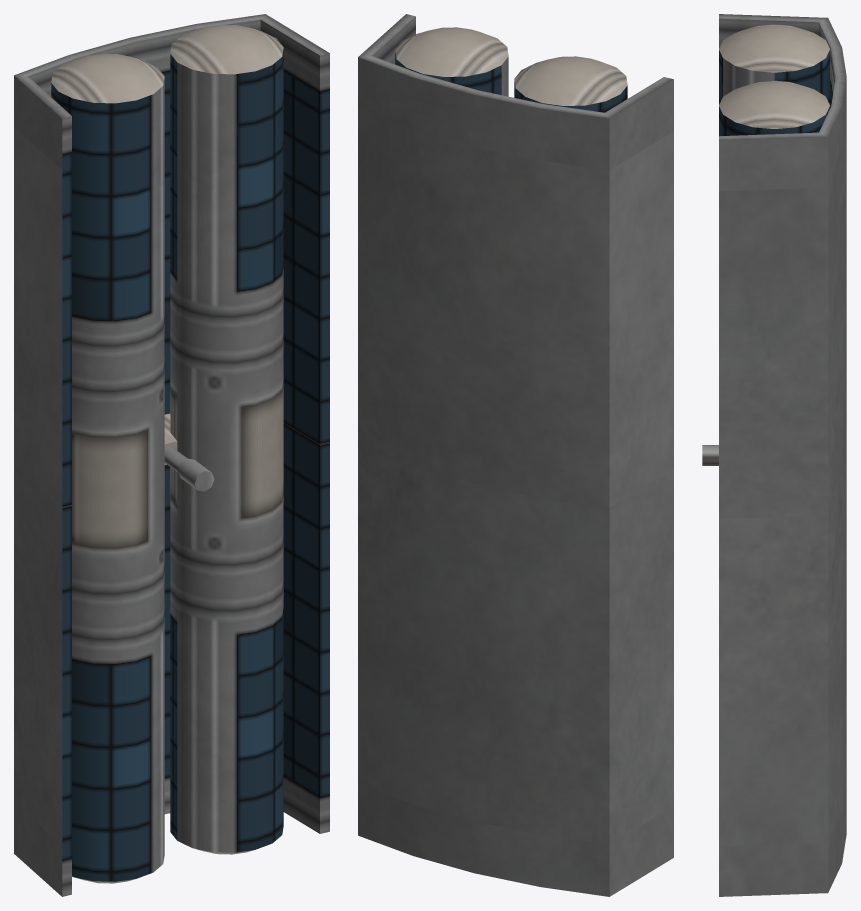
Rendered from double_box.obj.
3 renders of one model, left to right at view 1: azimuth 30°, elevation 25°; view 2: azimuth 150°, elevation 25°; view 3: azimuth 270°, elevation 25°, orthographic. The views are drawn at different scales.
Visible parts, largest first — view 1: 1; view 2: 1; view 3: 1.
Boxes of the visible parts, x1=… form: 1: x1=14, y1=14, x2=329, y2=896; 1: x1=358, y1=14, x2=673, y2=896; 1: x1=702, y1=14, x2=846, y2=896.
Size of the model in its own units: 0.675 by 1.95 by 0.325.
